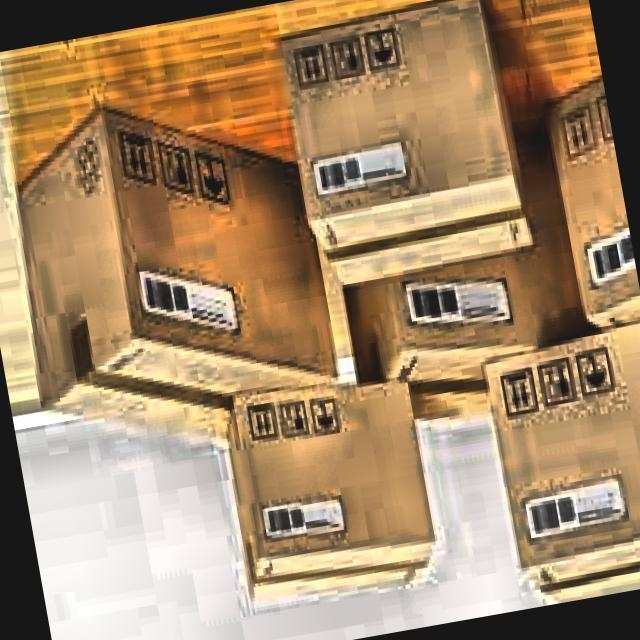cardboard: (0, 74, 349, 479), (271, 0, 534, 292), (212, 364, 445, 615)
